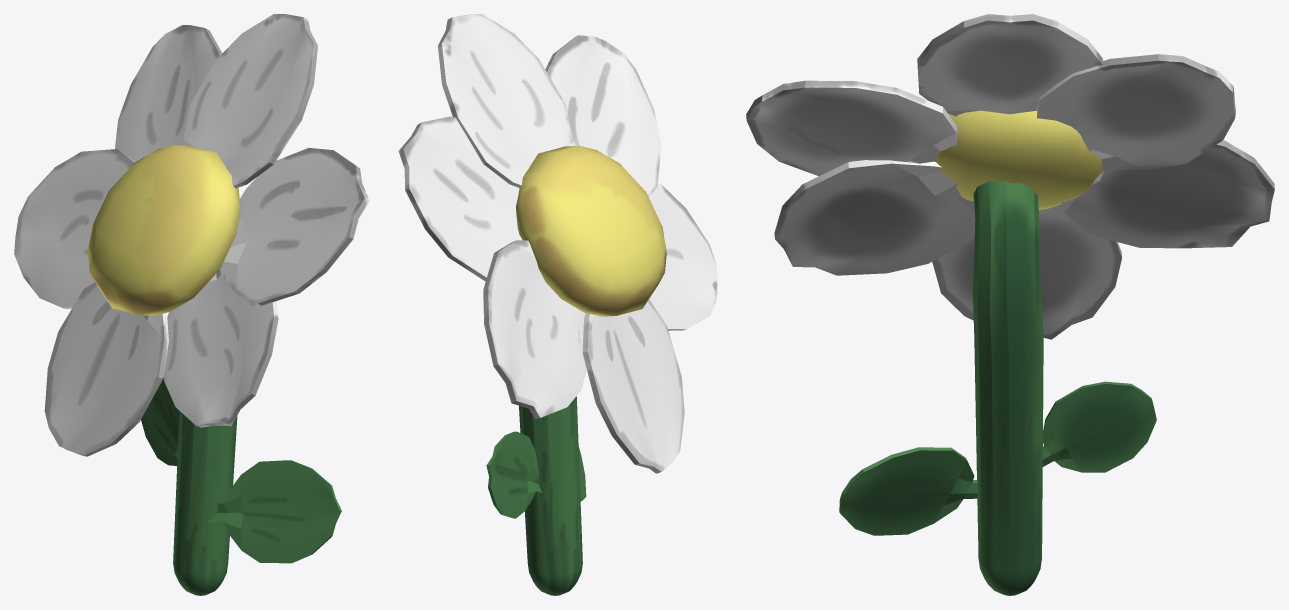
File: Flower1.fbx
3 renders of one model, left to right at view 1: azimuth 30°, elevation 25°; view 2: azimuth 150°, elevation 25°; view 3: azimuth 270°, elevation 25°, orthographic. The views are drawn at different scales.
Parts seen in each view (by area): view 1: Plant1_duplicated_petal4_polySurface1; view 2: Plant1_duplicated_petal4_polySurface1; view 3: Plant1_duplicated_petal4_polySurface1.
Part boxes in pixels (x1=…): Plant1_duplicated_petal4_polySurface1: x1=14, y1=14, x2=369, y2=595; Plant1_duplicated_petal4_polySurface1: x1=398, y1=14, x2=717, y2=595; Plant1_duplicated_petal4_polySurface1: x1=746, y1=14, x2=1274, y2=595.
Bounding box in the file's own units: 0.3438 × 0.7755 × 0.5847.
